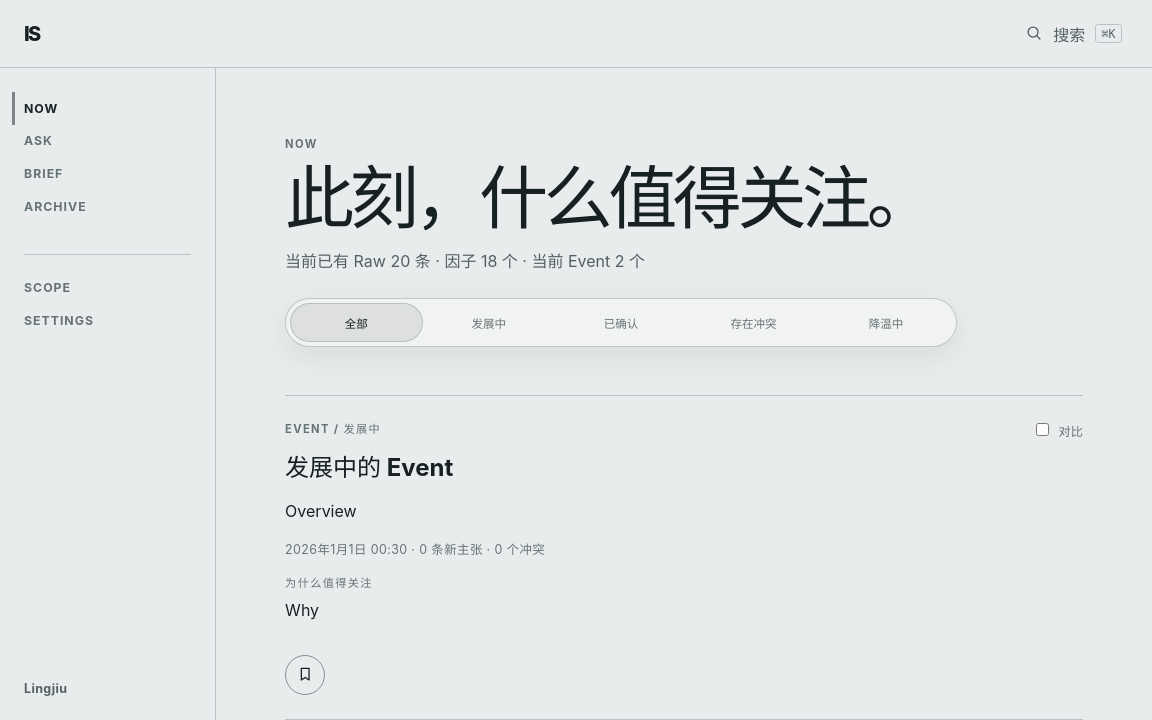
Test: App › filters NOW Events by Backend state without changing their order
The image size is (1152, 720).
Expected: the link "发展中的 Event" is shown, [285,453,453,482]
What coordinates should you click on to do the following:
click the button "存在冲突"
I would click on:
 (754, 323)
Its box is [687,303,820,342].
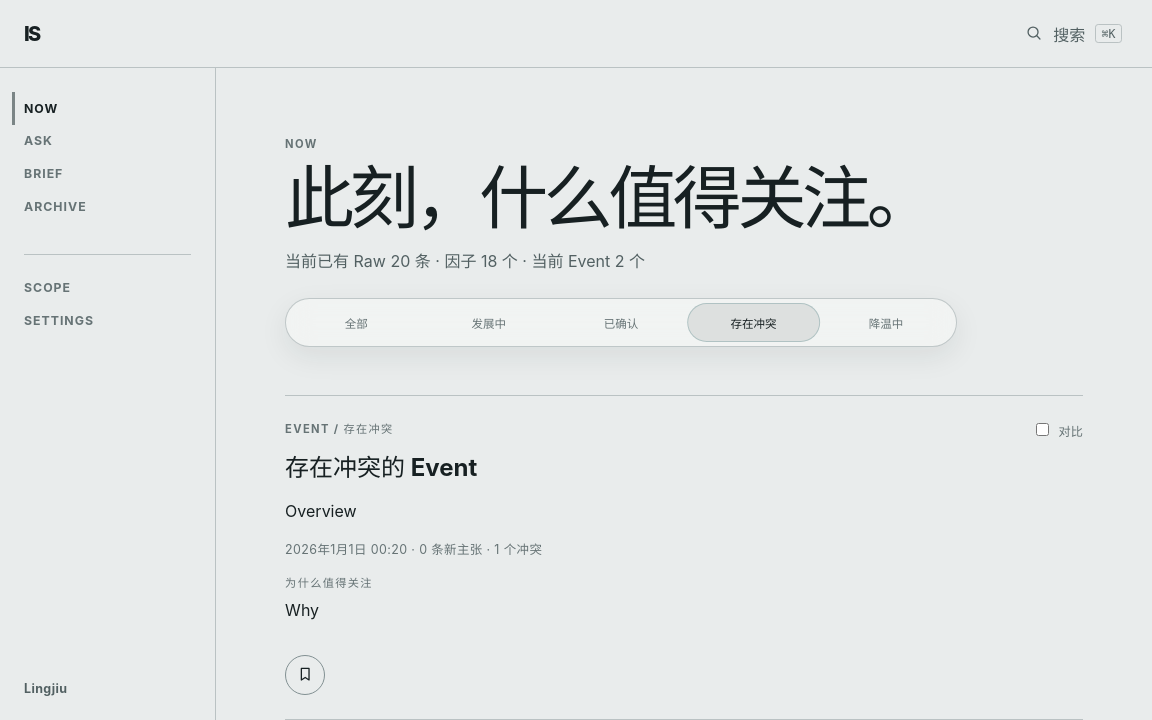
Expected: the link "存在冲突的 Event" is shown, [285,453,477,482]
Now the link "发展中的 Event" is gone
